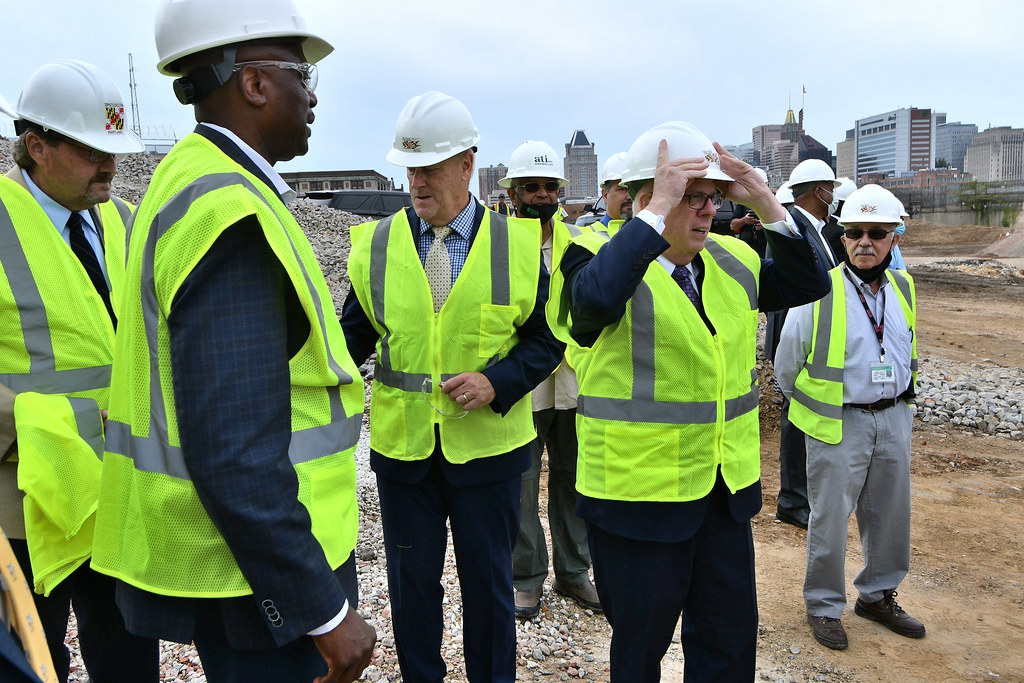Helmet: (151, 1, 340, 173), (7, 59, 152, 224), (616, 119, 735, 269), (383, 86, 481, 232), (835, 181, 916, 282), (502, 135, 577, 228), (782, 154, 846, 234), (593, 145, 641, 222)
Reflective vest: (89, 137, 369, 603), (544, 222, 774, 508), (1, 177, 141, 591), (342, 203, 551, 471), (786, 263, 921, 447)
